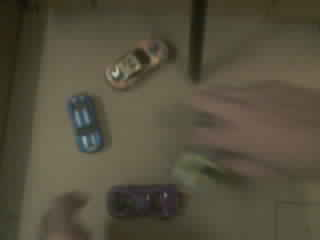Car: (107, 40, 167, 88), (107, 184, 179, 216), (69, 95, 102, 152)
